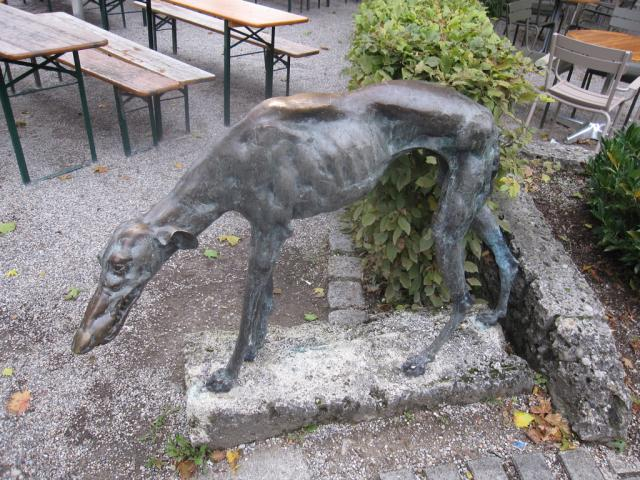Dog: (72, 78, 520, 391)
